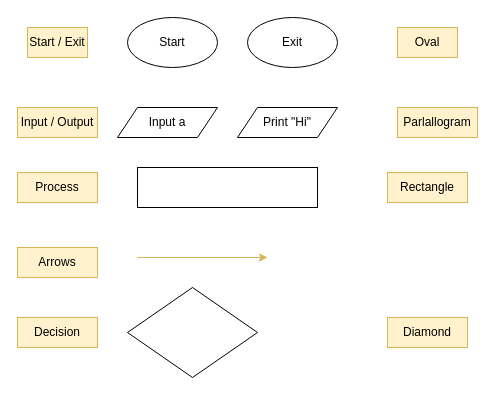
Image size: 495x395. Some labels were removed from this diagram. Each missing label, with the centre of its shape:
Is sum >= 0: point (192, 332)
name = "Tony Stark": point (227, 187)
